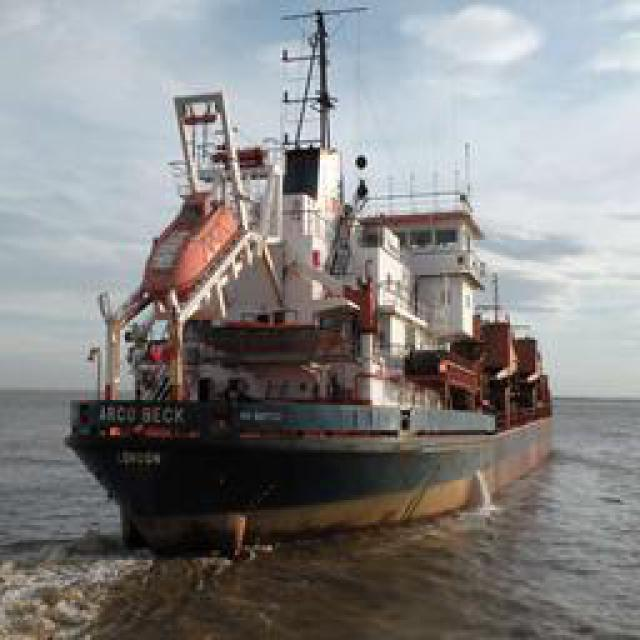Ship: (69, 20, 564, 563)
